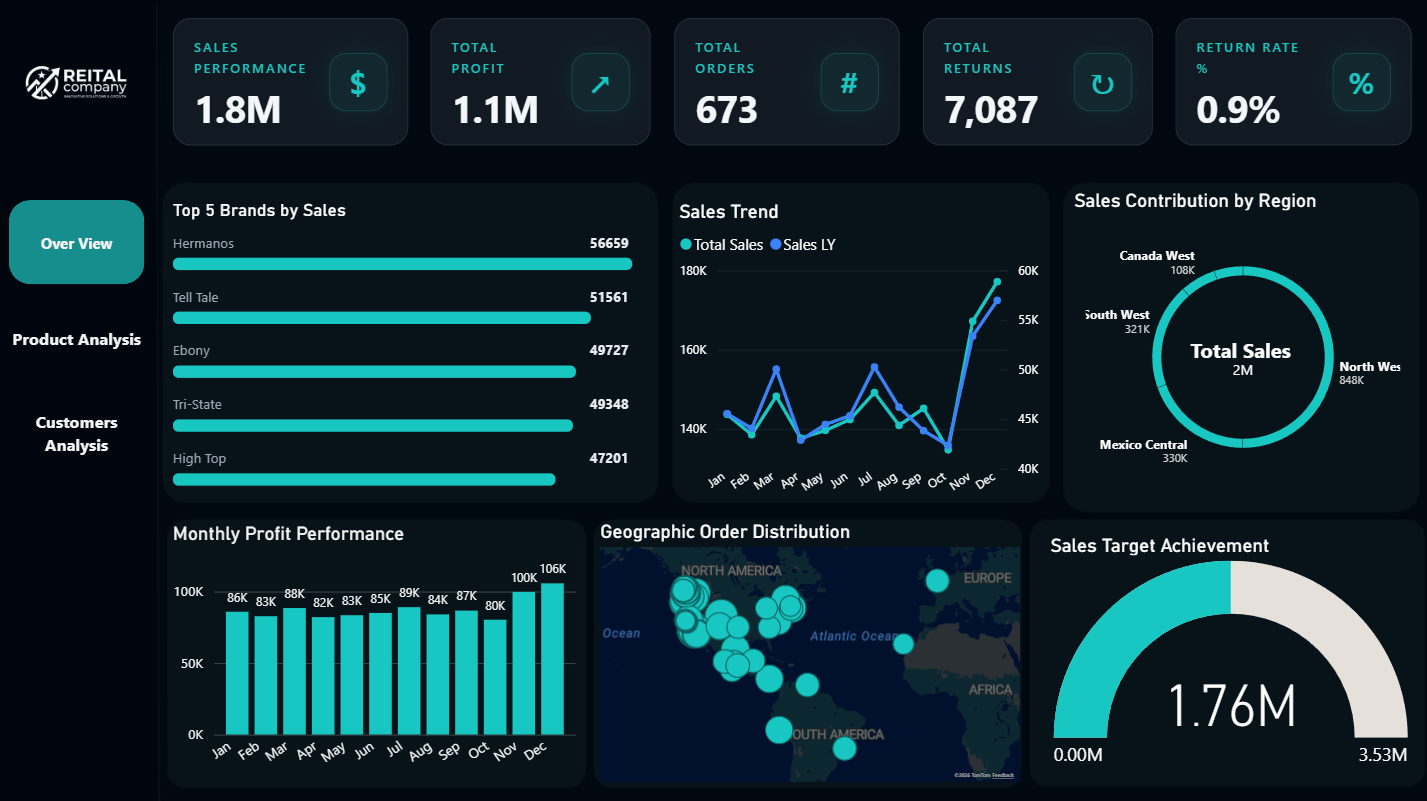

What the dashboard file says about the page in this screenshot:
{"tool":"powerbi","page":{"name":"Over View","canvas":[1280,720],"ordinal":0},"visuals":[{"type":"textbox","box":[0,0,183.8,52.5],"z":0},{"type":"actionButton","box":[9.8,62.6,123.9,94.5],"z":1000},{"type":"actionButton","box":[10,170,123.8,93.8],"z":2000},{"type":"actionButton","box":[8.8,292.5,123.8,93.8],"z":3000},{"type":"card","title":"Total Orders","fields":{"Values":["Dax_Measure.Total Orders"]},"box":[667.5,86.2,125,57.5],"z":9000},{"type":"image","box":[593.8,80,73.8,53.8],"z":10000},{"type":"card","title":"Total Returns","fields":{"Values":["Dax_Measure.Total Returns"]},"box":[890,86.2,125,57.5],"z":11000},{"type":"image","box":[816.2,80,73.8,53.8],"z":12000},{"type":"shape","box":[606.2,420,673.8,257.5],"z":13000},{"type":"card","title":"Sales","fields":{"Values":["Dax_Measure.Total Sales"]},"box":[225,86.2,125,57.5],"z":14000},{"type":"image","box":[176.2,82.5,73.8,53.8],"z":15000},{"type":"card","title":" Returns Rate","fields":{"Values":["Dax_Measure.Return Rate %"]},"box":[1103.8,86.2,125,57.5],"z":16000},{"type":"image","box":[1040,81.2,73.8,53.8],"z":17000},{"type":"pivotTable","title":"Sales Momentum Tracker","fields":{"Rows":["Dim_Date.Year","Dim_Date.MonthName"],"Values":["Dax_Measure.Sales LY","Dax_Measure.Total Sales","Dax_Measure.YOY Growth","Dax_Measure.Sales PM","Dax_Measure.MOM Growth","Dax_Measure.MOM Growth %"]},"box":[618.4,436.8,650.3,222.1],"z":18000},{"type":"shape","box":[693.3,177.9,535,229.4],"z":19000},{"type":"shape","box":[156.4,178.4,537.9,229.2],"z":20000},{"type":"shape","box":[155,420,451.2,257.5],"z":21000},{"type":"lineChart","title":"Sales and Sales LY by MonthName","fields":{"Category":["Dim_Date.MonthName"],"Y2":["Dax_Measure.Sales LY"],"Y":["Dax_Measure.Total Sales"]},"box":[168.8,437.7,424,223.7],"z":22000},{"type":"columnChart","title":"Top 5 Regions by Sales","fields":{"Category":["Region.sales_district"],"Y":["Dax_Measure.Total Sales"]},"box":[176.7,193.9,490.8,195.1],"z":23000},{"type":"columnChart","title":"Monthly Orders","fields":{"Y":["Dax_Measure.Total Orders"],"Category":["Dim_Date.MonthName"]},"box":[722.7,177.9,494.5,211],"z":25000},{"type":"card","title":"Total Profit","fields":{"Values":["Dax_Measure.Total Profit"]},"box":[466.2,80,125,57.5],"z":26000},{"type":"image","box":[392.5,82.5,73.8,53.8],"z":27000},{"type":"slicer","fields":{"Values":["Dim_Date.Year"]},"box":[949.7,0,282.2,77.3],"z":28000}]}

Visuals, with their boxes in screenshot pixels (x1, y1, x2, y2), scaled from the page's 1280x720 canvas onto the 1427x801 screenshot:
textbox: pyautogui.locateOnScreen(0, 0, 205, 58)
actionButton: pyautogui.locateOnScreen(11, 70, 149, 175)
actionButton: pyautogui.locateOnScreen(11, 189, 149, 293)
actionButton: pyautogui.locateOnScreen(10, 325, 148, 430)
"Total Orders" card: pyautogui.locateOnScreen(744, 96, 884, 160)
image: pyautogui.locateOnScreen(662, 89, 744, 149)
"Total Returns" card: pyautogui.locateOnScreen(992, 96, 1132, 160)
image: pyautogui.locateOnScreen(910, 89, 992, 149)
shape: pyautogui.locateOnScreen(676, 467, 1426, 754)
"Sales" card: pyautogui.locateOnScreen(251, 96, 390, 160)
image: pyautogui.locateOnScreen(196, 92, 279, 152)
" Returns Rate" card: pyautogui.locateOnScreen(1231, 96, 1370, 160)
image: pyautogui.locateOnScreen(1159, 90, 1242, 150)
"Sales Momentum Tracker" pivotTable: pyautogui.locateOnScreen(689, 486, 1414, 733)
shape: pyautogui.locateOnScreen(773, 198, 1369, 453)
shape: pyautogui.locateOnScreen(174, 198, 774, 453)
shape: pyautogui.locateOnScreen(173, 467, 676, 754)
"Sales and Sales LY by MonthName" lineChart: pyautogui.locateOnScreen(188, 487, 661, 736)
"Top 5 Regions by Sales" columnChart: pyautogui.locateOnScreen(197, 216, 744, 433)
"Monthly Orders" columnChart: pyautogui.locateOnScreen(806, 198, 1357, 433)
"Total Profit" card: pyautogui.locateOnScreen(520, 89, 659, 153)
image: pyautogui.locateOnScreen(438, 92, 520, 152)
slicer - Dim_Date.Year: pyautogui.locateOnScreen(1059, 0, 1373, 86)
